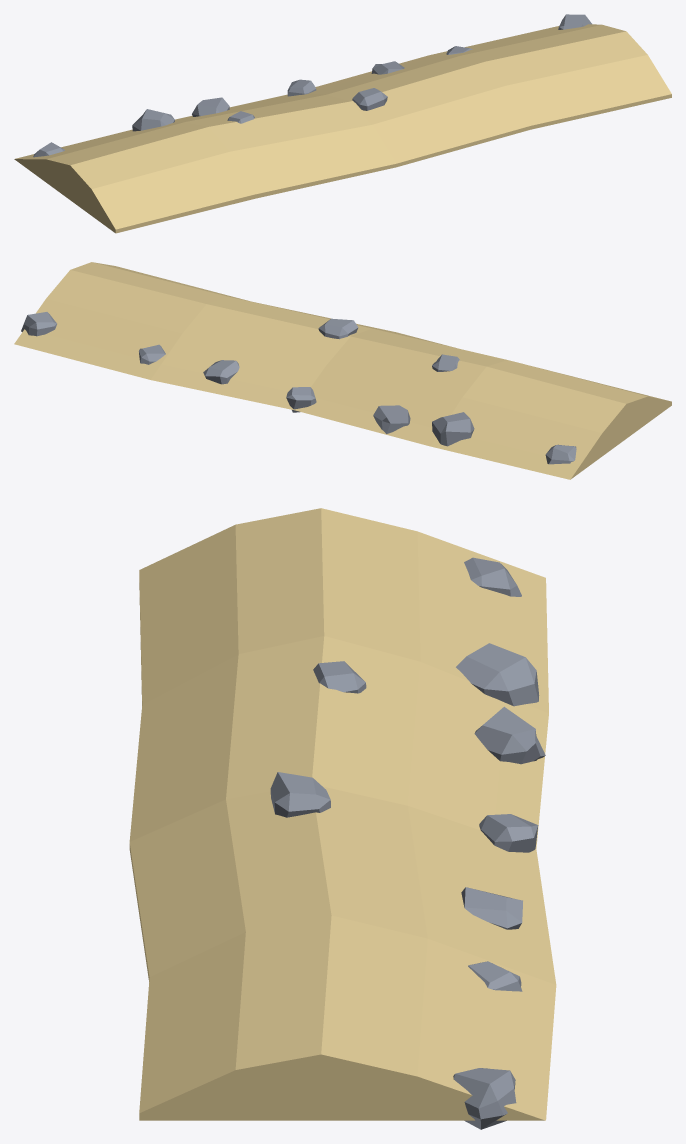
Rendered from RiverBank.fbx.
The picture shows the model from 3 angles, top to bottom: view 1: azimuth 30°, elevation 25°; view 2: azimuth 150°, elevation 25°; view 3: azimuth 270°, elevation 25°; orthographic projection. The views are drawn at different scales.
Parts seen in each view (by area): view 1: Sand, Stone; view 2: Sand, Stone; view 3: Sand, Stone.
Boxes of the visible parts, bbox=[...] form: Sand: bbox=[14, 24, 671, 233]; Stone: bbox=[33, 14, 591, 157]; Sand: bbox=[14, 262, 671, 479]; Stone: bbox=[21, 312, 576, 464]; Sand: bbox=[129, 508, 556, 1120]; Stone: bbox=[270, 557, 545, 1129].
Size of the model in its own units: 12.13 by 0.983 by 3.99.
